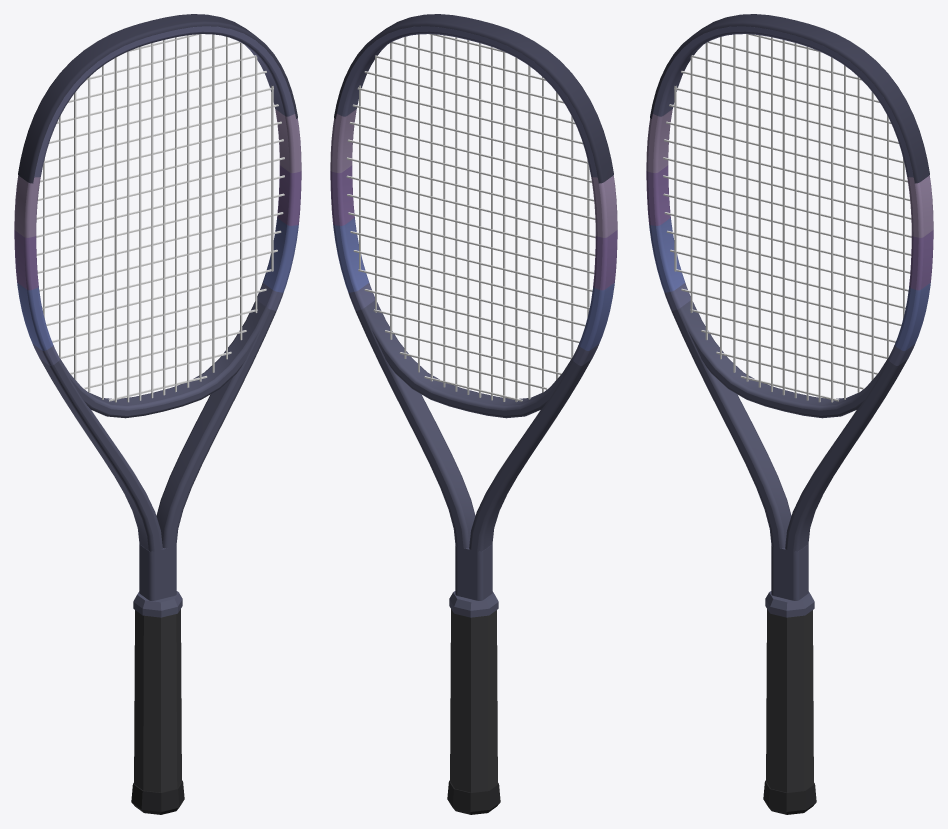
The model's file is yonex-percept-97d-2023.glb.
3 renders of one model, left to right at view 1: azimuth 30°, elevation 25°; view 2: azimuth 150°, elevation 25°; view 3: azimuth 330°, elevation 25°, orthographic.
Visible parts, largest first — view 1: frame, strings_mains, strings_crosses, grip, bumper, butt_cap, collar; view 2: frame, strings_mains, strings_crosses, grip, bumper, butt_cap, collar; view 3: frame, strings_mains, strings_crosses, grip, bumper, butt_cap, collar.
Part boxes in pixels (x1,y1,x2,y2): frame: (14, 26, 301, 600); strings_mains: (43, 34, 273, 402); strings_crosses: (36, 34, 284, 401); grip: (134, 609, 181, 792); bumper: (18, 14, 297, 183); butt_cap: (131, 780, 184, 814); collar: (133, 591, 182, 617); frame: (330, 26, 617, 600); strings_mains: (359, 34, 589, 402); strings_crosses: (346, 34, 595, 401); grip: (450, 609, 497, 792); bumper: (334, 14, 613, 183); butt_cap: (447, 780, 500, 814); collar: (449, 591, 498, 617); frame: (646, 26, 933, 600); strings_mains: (674, 34, 904, 402); strings_crosses: (663, 34, 911, 401); grip: (766, 609, 813, 792); bumper: (650, 14, 929, 183); butt_cap: (763, 780, 816, 814); collar: (765, 591, 814, 617).
Bounding box in the file's own units: 0.2546 × 0.6861 × 0.0396.
